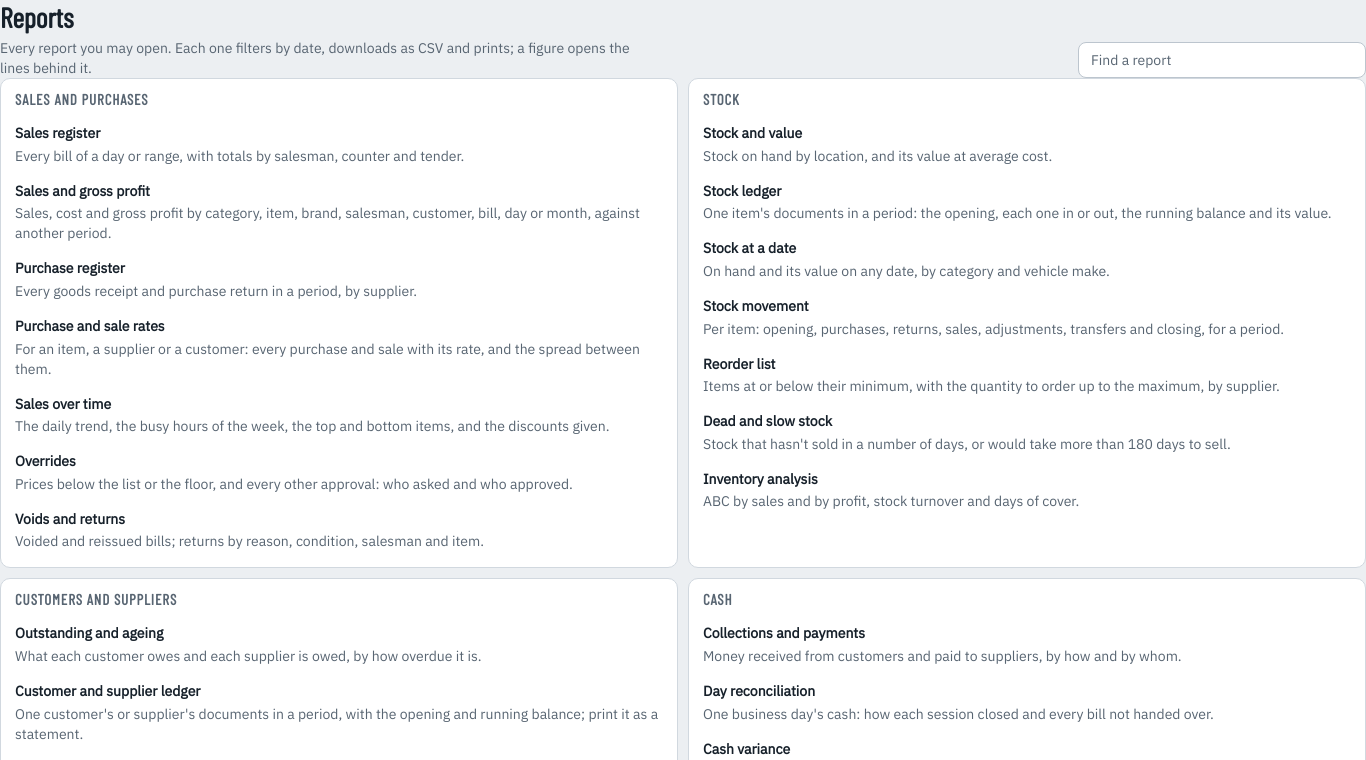
it: the Reports home › lists the reports this person may open, by section; the search narrows them
Type "ageing" into the search field labelled "Find a report" at (1222, 60), box [1078,42,1365,78]
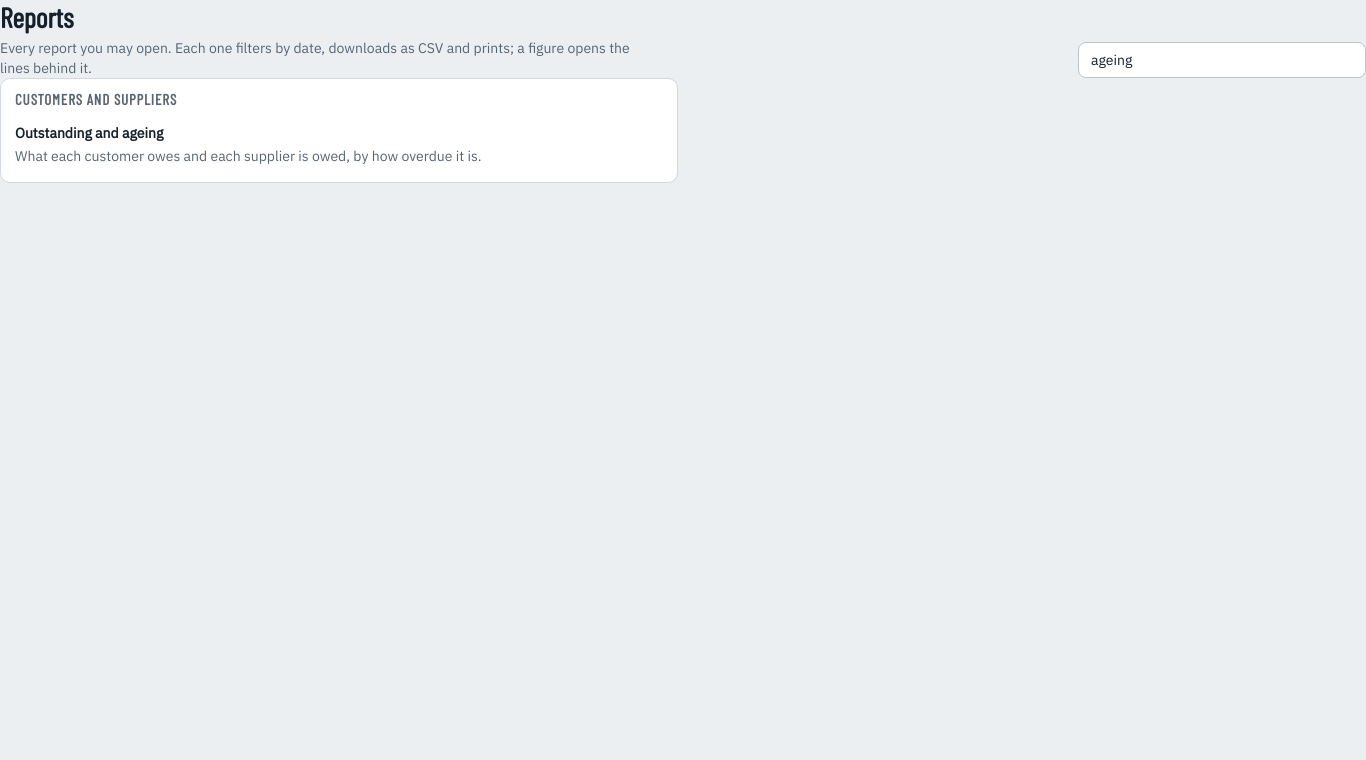
Expected: the number of links is 1, [15,124,482,165]
